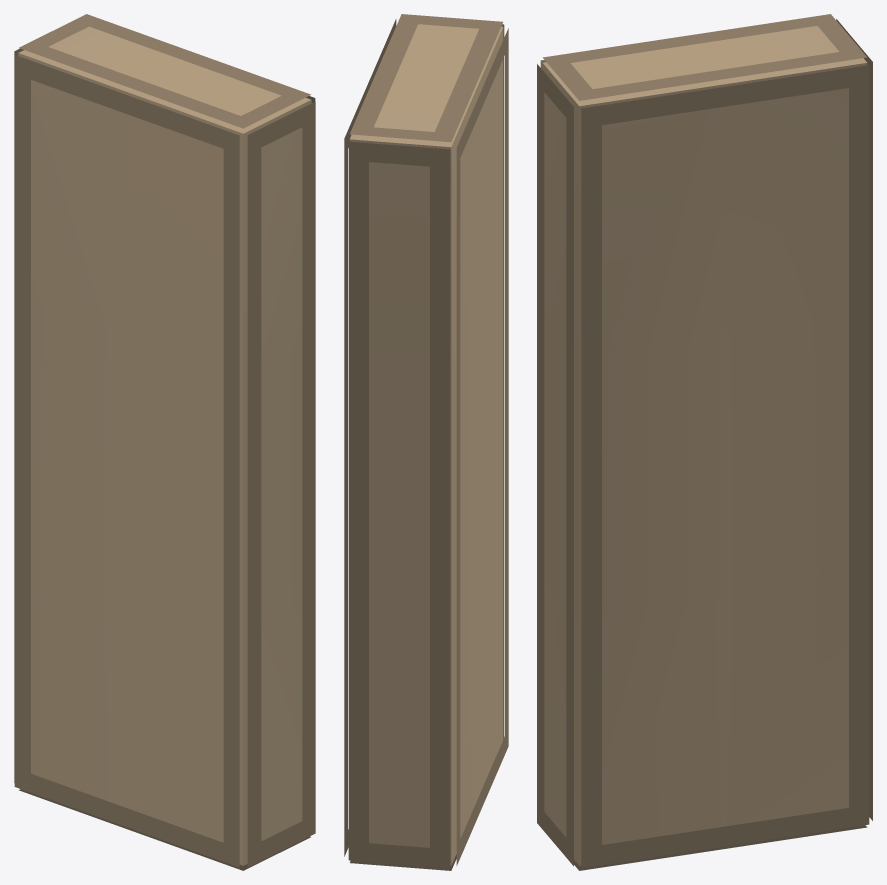
The model's file is key-2.glb.
The picture shows the model from 3 angles, left to right: view 1: azimuth 30°, elevation 25°; view 2: azimuth 150°, elevation 25°; view 3: azimuth 270°, elevation 25°; orthographic projection. The views are drawn at different scales.
Parts seen in each view (by area): view 1: key-2; view 2: key-2; view 3: key-2.
Boxes of the visible parts, left/top/right/bottom form: key-2: left=14, top=14, right=315, bottom=870; key-2: left=344, top=14, right=508, bottom=870; key-2: left=537, top=14, right=872, bottom=870.
Size of the model in its own units: 0.0149 by 0.0583 by 0.0231.
